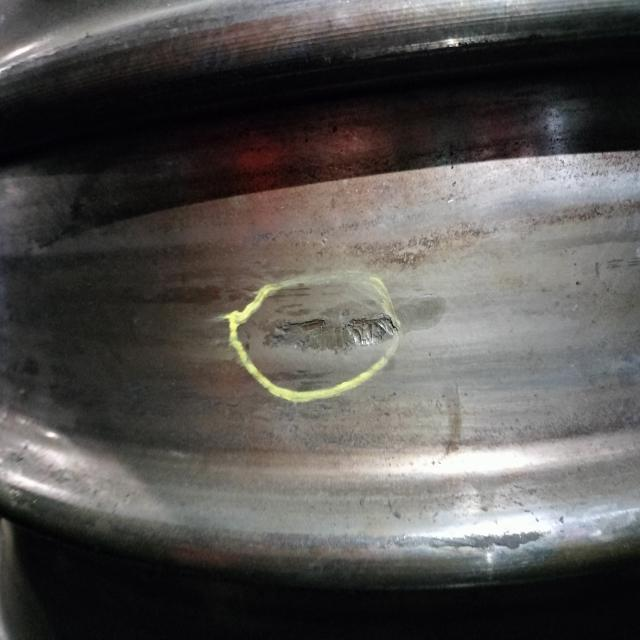Rollerpile: (262, 316, 398, 351)
